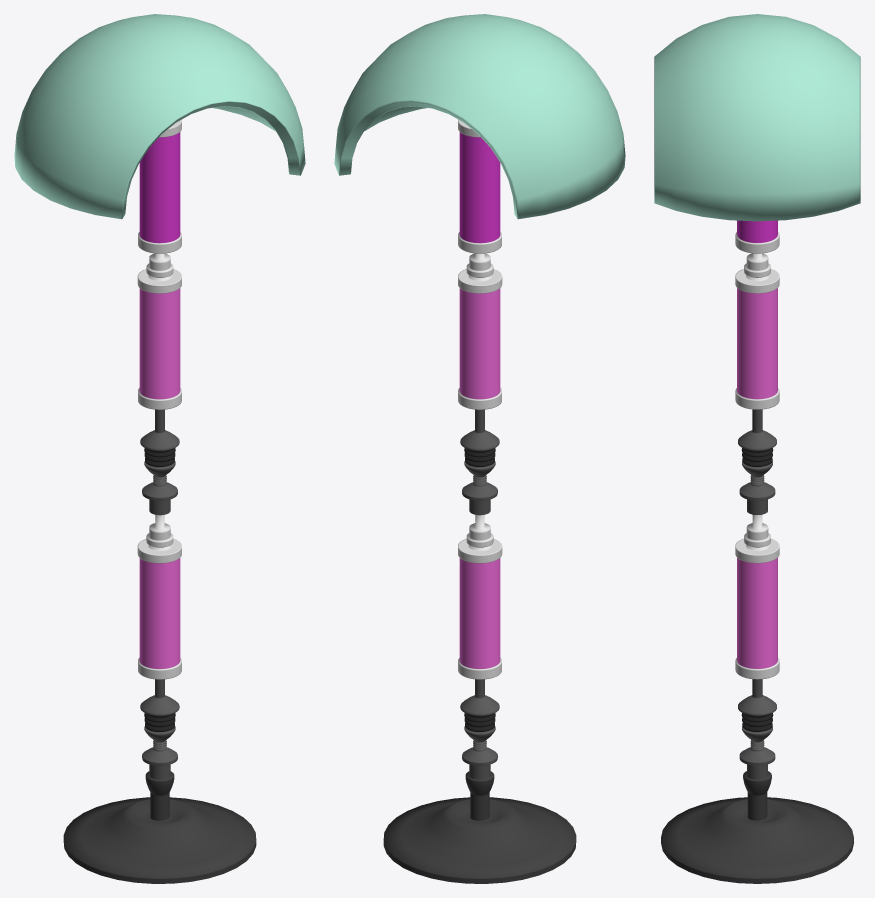
Rendered from PaliLuce.fbx.
3 renders of one model, left to right at view 1: azimuth 30°, elevation 25°; view 2: azimuth 150°, elevation 25°; view 3: azimuth 270°, elevation 25°, orthographic.
Parts seen in each view (by area): view 1: PaloLuce; view 2: PaloLuce; view 3: PaloLuce.
Boxes of the visible parts, x1,y1,x2,y2 form: PaloLuce: (14, 14, 305, 883); PaloLuce: (334, 14, 625, 883); PaloLuce: (654, 14, 860, 883).
Bounding box in the file's own units: 105 × 322 × 73.91.
